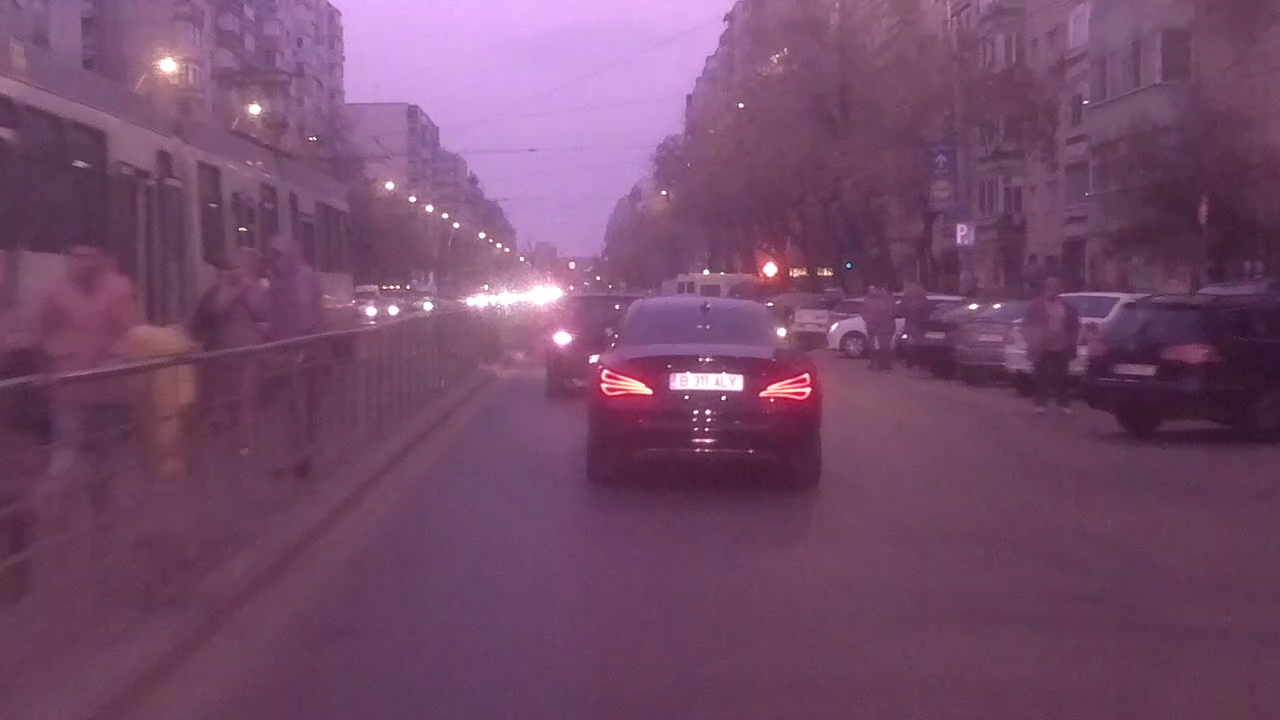license-plate: (666, 370, 745, 393)
